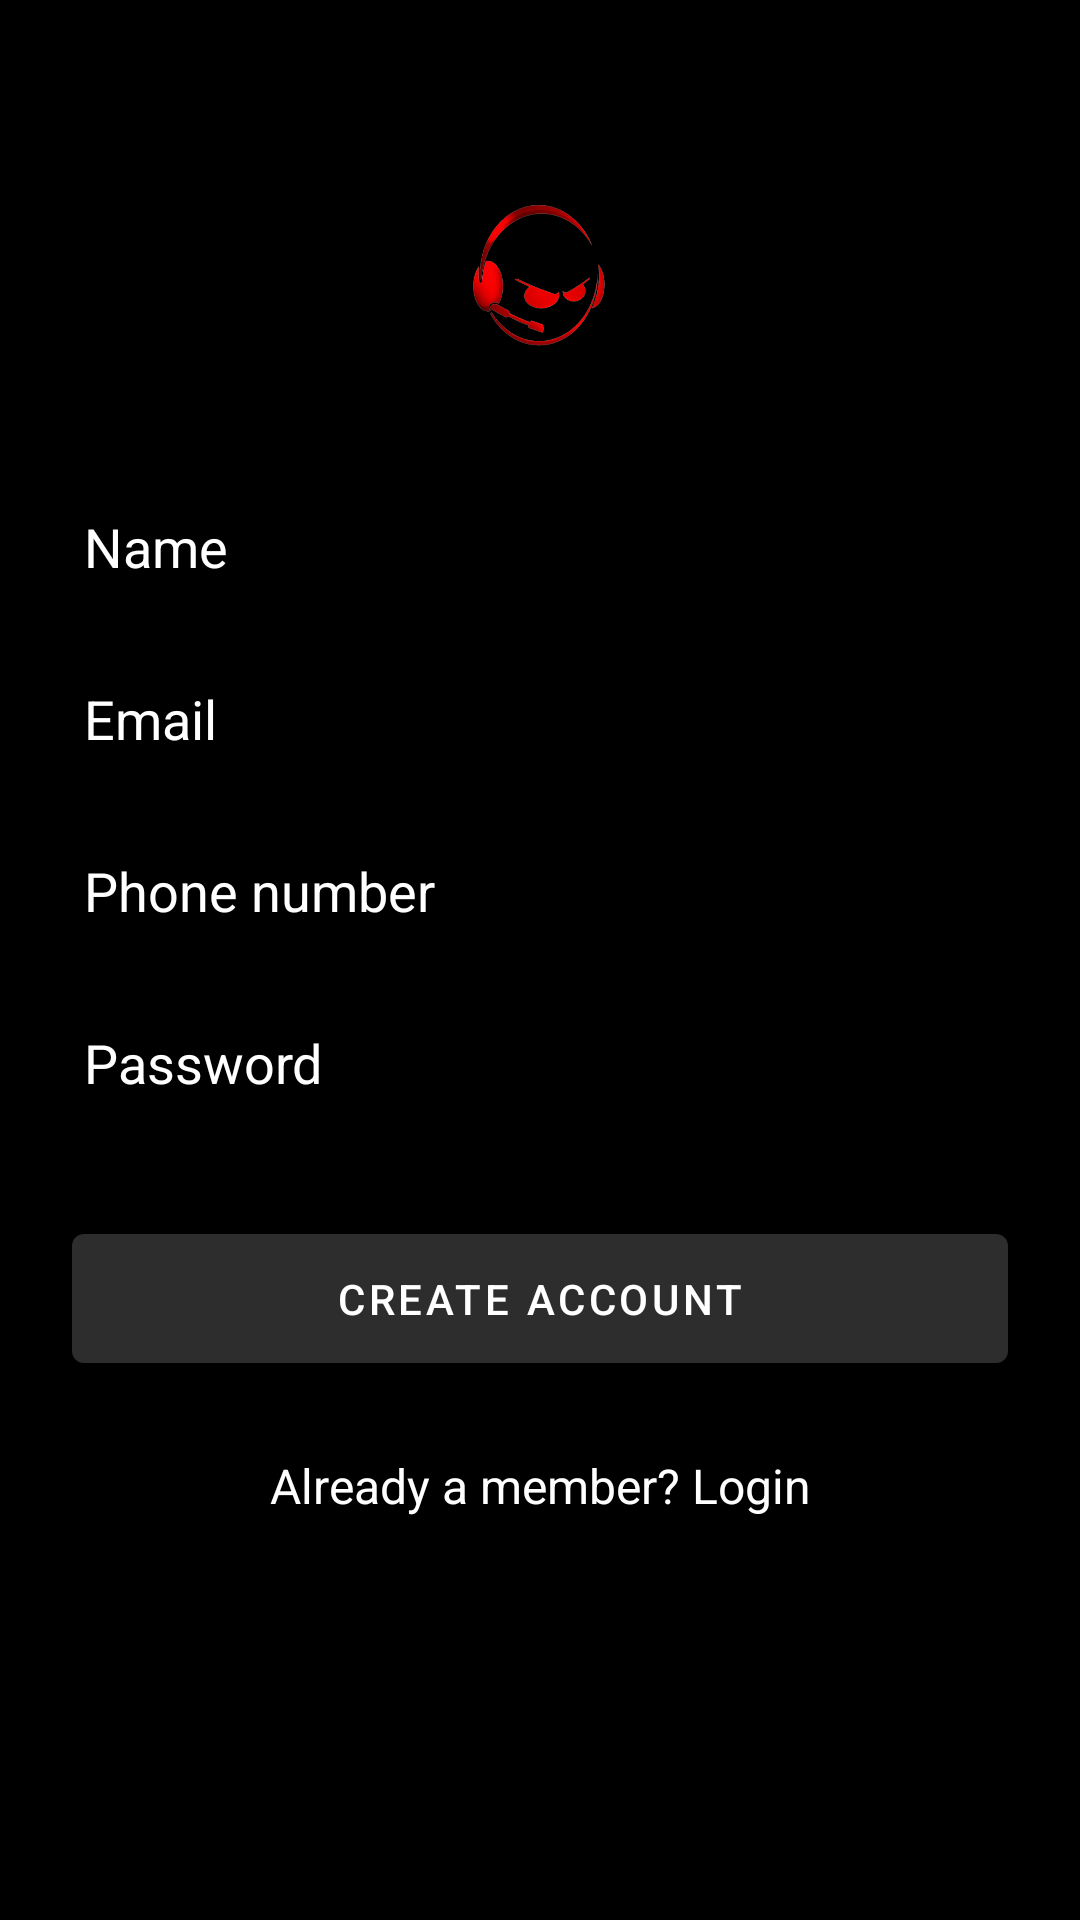

Point at icon controls on the screen. Image size 1080x1920, points as point (x, y).
gamerhead: point (539, 275)
